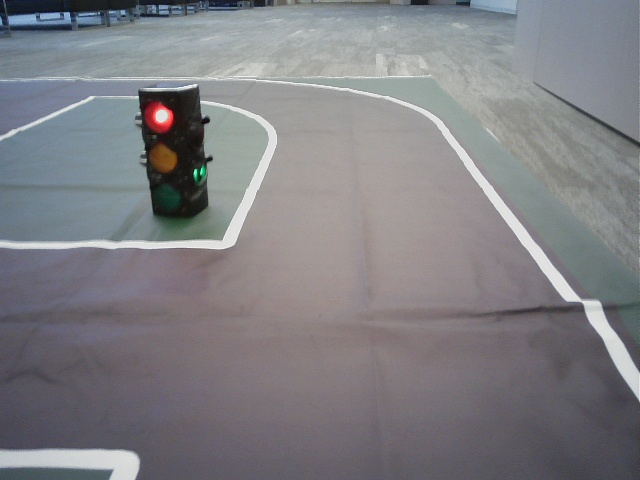red: (139, 96, 184, 212)
